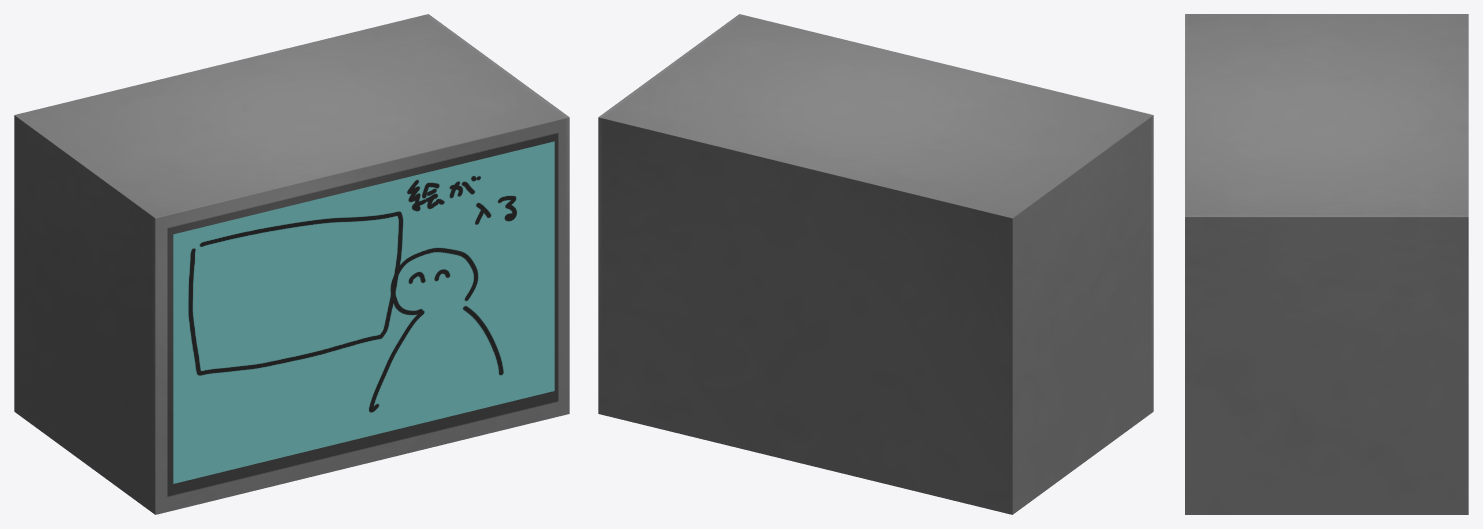
File: BgMD_goto_Monitor_01.fbx
3 renders of one model, left to right at view 1: azimuth 30°, elevation 25°; view 2: azimuth 150°, elevation 25°; view 3: azimuth 270°, elevation 25°, orthographic.
Parts seen in each view (by area): view 1: BgMD_goto_Monitor_01; view 2: BgMD_goto_Monitor_01; view 3: BgMD_goto_Monitor_01.
Boxes of the visible parts, x1,y1,x2,y2 form: BgMD_goto_Monitor_01: (14,14,569,514); BgMD_goto_Monitor_01: (598,14,1153,514); BgMD_goto_Monitor_01: (1185,14,1468,514).
Bounding box in the file's own units: 1462 × 1000 × 870.
1 material, 1 textured.
